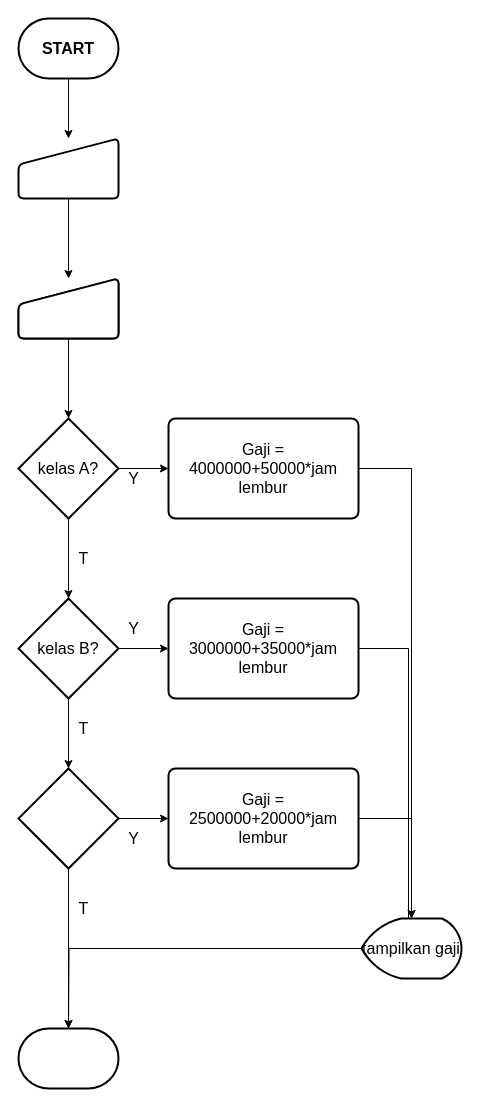
Some shapes in this 479 by 1106 pixel diagram are drawn without their labels. The shapes that lost their labels are listed below. From the top down, each one's box as (x1, y1, x2, y2) in pixels, then its label:
(17, 137, 119, 199): Masukkan kelas pegawai
(17, 277, 119, 339): Masukkan jam lembur
(17, 767, 119, 869): kelas C?
(17, 1027, 119, 1089): END
